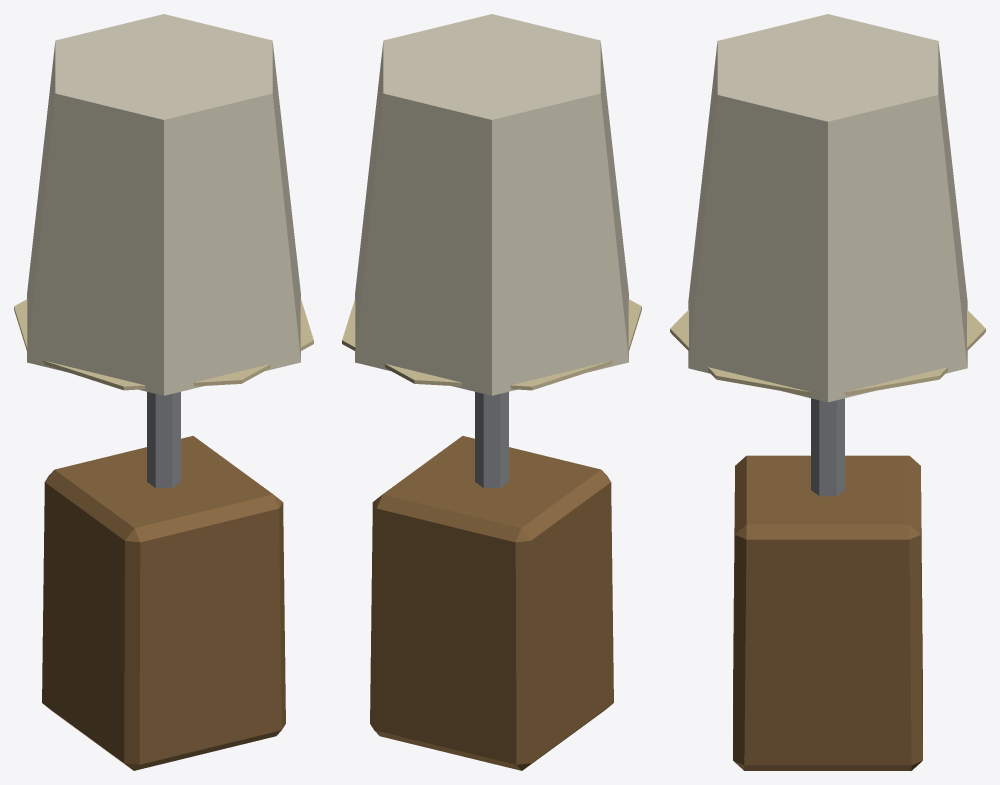
The model's file is table-lamp-27.glb.
The picture shows the model from 3 angles, left to right: view 1: azimuth 30°, elevation 25°; view 2: azimuth 150°, elevation 25°; view 3: azimuth 270°, elevation 25°; orthographic projection.
Parts seen in each view (by area): view 1: table_lamp_27; view 2: table_lamp_27; view 3: table_lamp_27.
Part boxes in pixels (x1,y1,x2,y2): table_lamp_27: (14, 14, 313, 770); table_lamp_27: (342, 14, 641, 770); table_lamp_27: (670, 14, 985, 770).
Size of the model in its own units: 0.2258 by 0.5164 by 0.2213.
